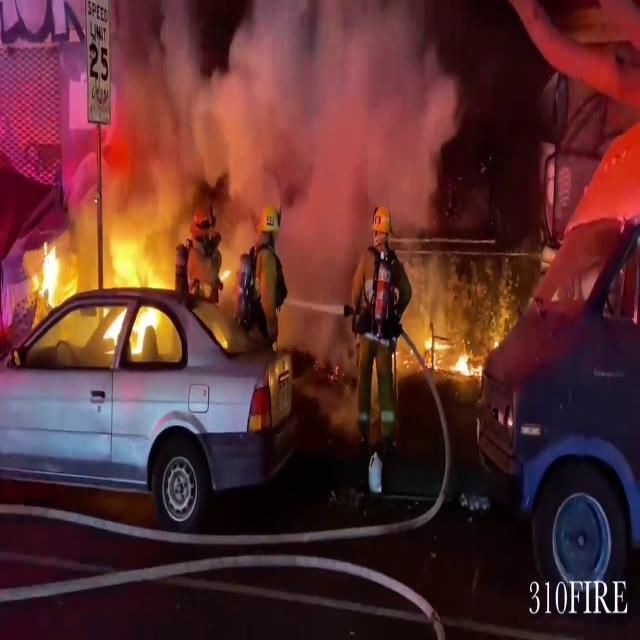Fire: (108, 228, 158, 356), (36, 235, 86, 318), (420, 316, 480, 381)
Smoke: (84, 0, 479, 308)
